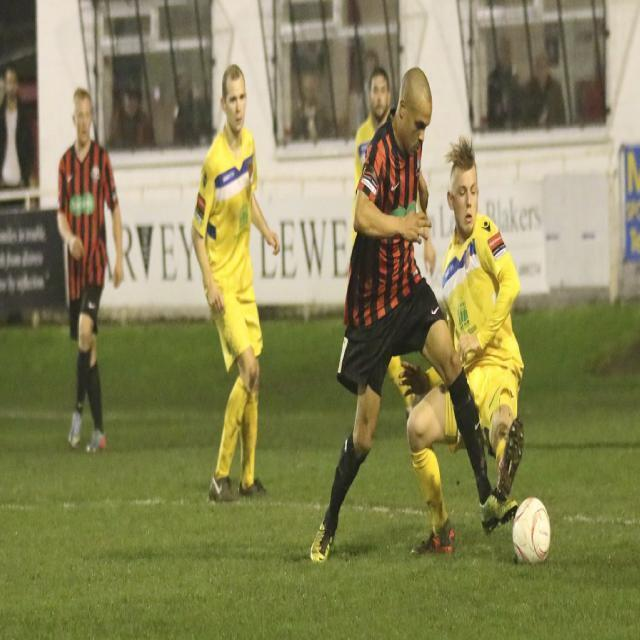ball: (511, 492, 554, 564)
